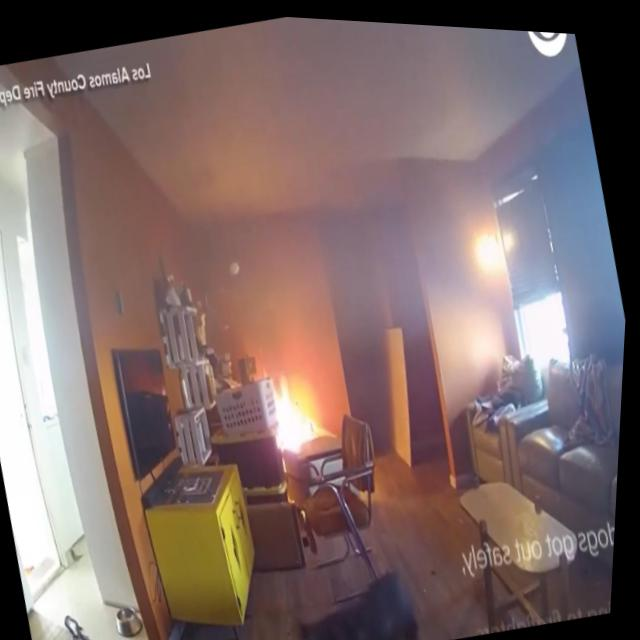fire: (263, 362, 331, 454)
